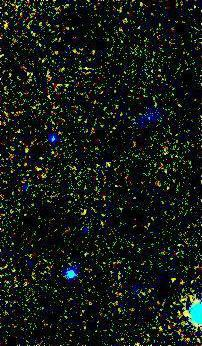star: (172, 301, 202, 331)
